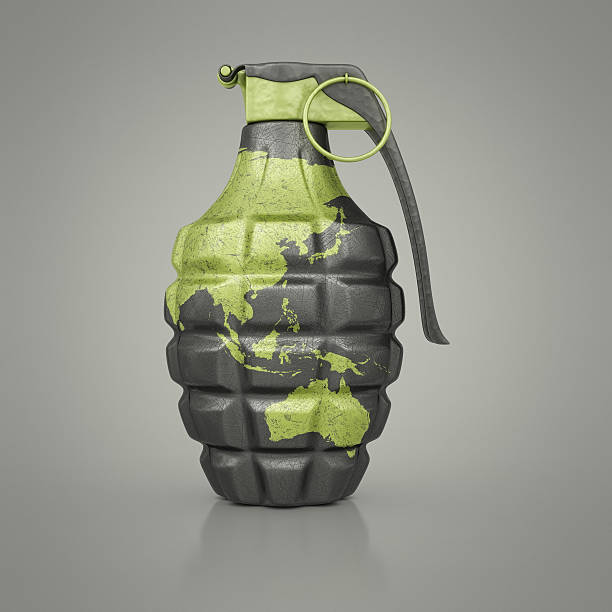e1: (166, 62, 449, 509)
